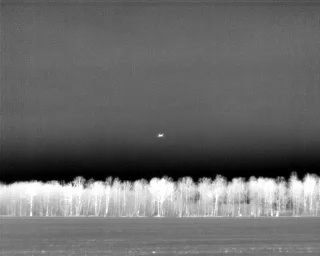DRONE: (154, 129, 168, 142)
